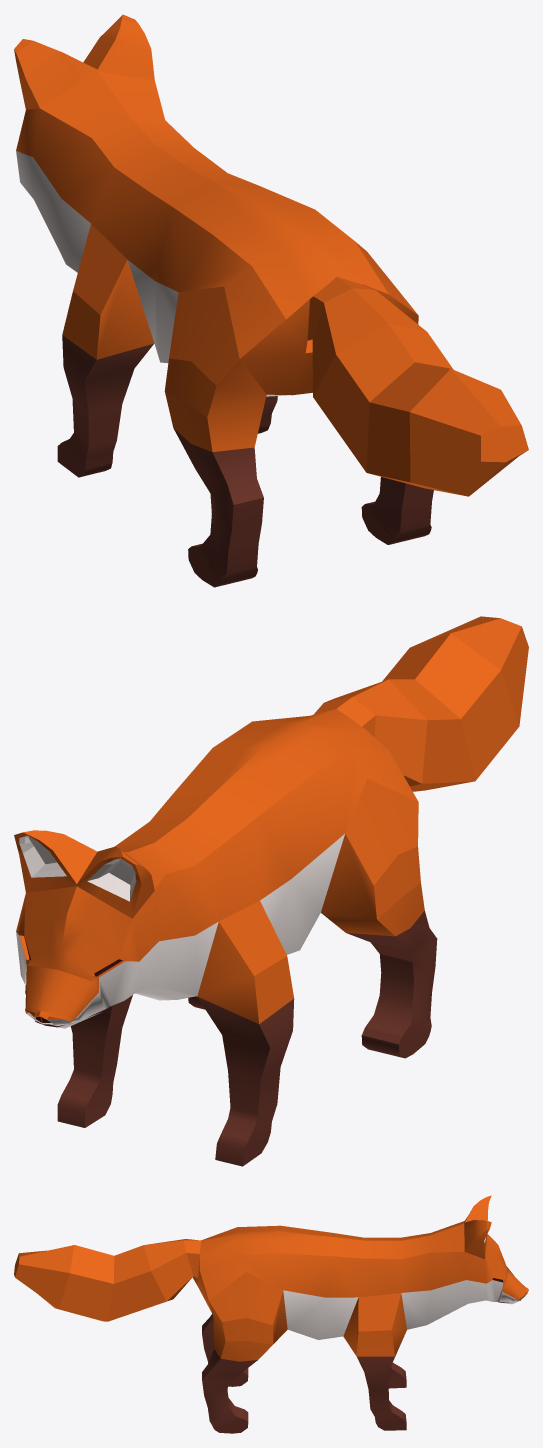
File: splashModel.glb
3 views of the same model, one above another, from view 1: azimuth 30°, elevation 25°; view 2: azimuth 150°, elevation 25°; view 3: azimuth 270°, elevation 25° (orthographic). The views are drawn at different scales.
Visible parts, largest first — view 1: splashModel; view 2: splashModel; view 3: splashModel.
Part boxes in pixels (left/top/right/bottom): splashModel: left=14, top=14, right=528, bottom=587; splashModel: left=14, top=616, right=528, bottom=1166; splashModel: left=14, top=1195, right=528, bottom=1433.
Bounding box in the file's own units: 3.08 × 4.74 × 11.22.
